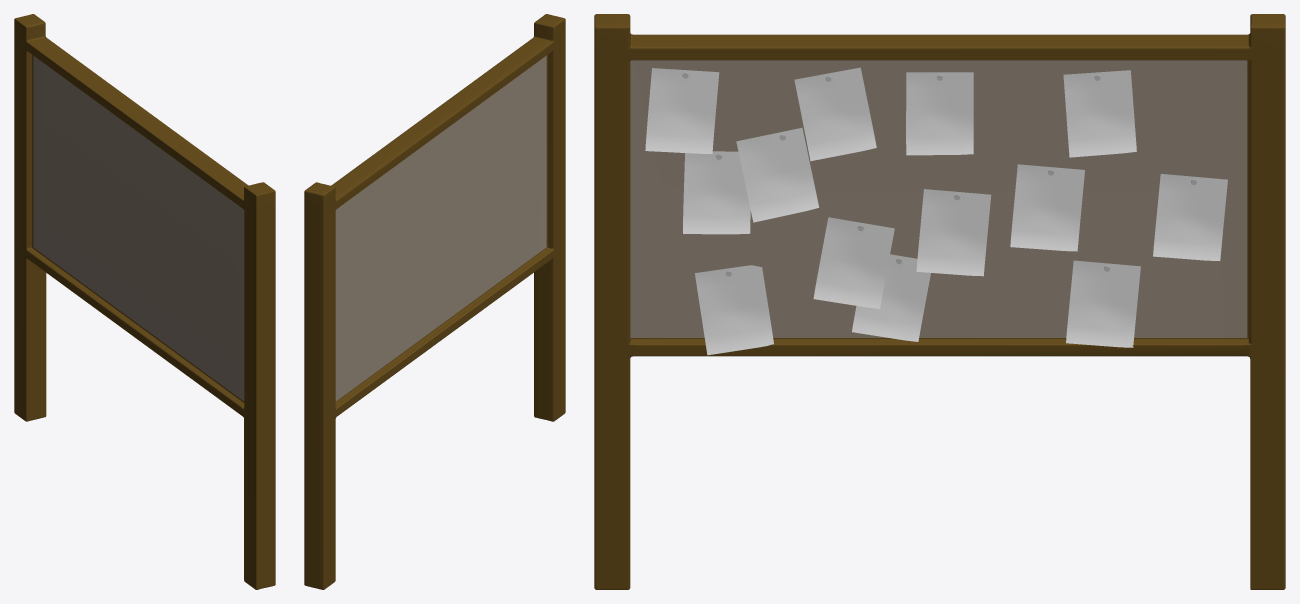
File: MessageBoard.fbx
The picture shows the model from 3 angles, left to right: view 1: azimuth 30°, elevation 25°; view 2: azimuth 150°, elevation 25°; view 3: azimuth 270°, elevation 25°; orthographic projection. The views are drawn at different scales.
Visible parts, largest first — view 1: MessageBoard; view 2: MessageBoard; view 3: MessageBoard, Note5, Note6, Note7, Note10, Note3, Note8, Note9, Note12, Note11, Note2, Note1 (+2 smaller).
Boxes of the visible parts, bbox=[...] form: MessageBoard: bbox=[14, 14, 275, 589]; MessageBoard: bbox=[304, 14, 565, 589]; MessageBoard: bbox=[594, 14, 1285, 589]; Note5: bbox=[794, 67, 876, 161]; Note6: bbox=[1063, 70, 1136, 157]; Note7: bbox=[1010, 164, 1084, 251]; Note10: bbox=[1066, 260, 1140, 347]; Note3: bbox=[736, 128, 819, 222]; Note8: bbox=[916, 189, 991, 276]; Note9: bbox=[1153, 174, 1227, 260]; Note12: bbox=[813, 217, 894, 308]; Note11: bbox=[695, 265, 773, 355]; Note2: bbox=[645, 68, 719, 153]; Note1: bbox=[906, 72, 973, 155].
Bounding box in the file's own units: 1.23 × 18.38 × 20.44.
